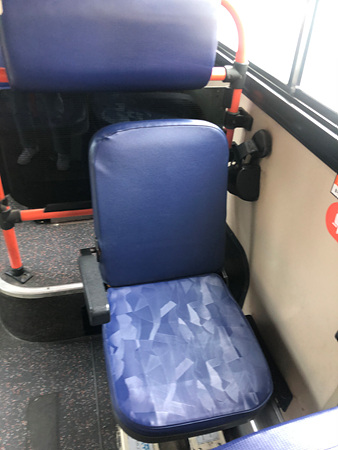seat: (89, 115, 272, 420)
